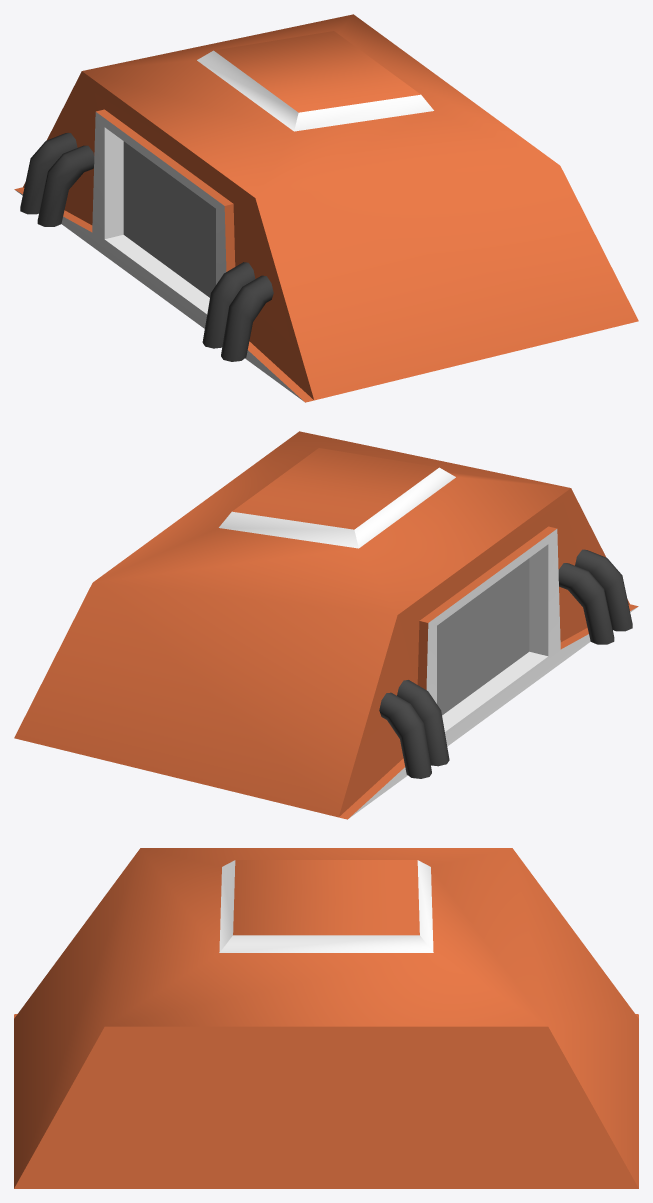
File: Machine_6.fbx
3 renders of one model, top to bottom at view 1: azimuth 30°, elevation 25°; view 2: azimuth 150°, elevation 25°; view 3: azimuth 270°, elevation 25°, orthographic. The views are drawn at different scales.
Parts seen in each view (by area): view 1: Machine_6; view 2: Machine_6; view 3: Machine_6.
Part boxes in pixels (left/top/right/bottom): Machine_6: left=14, top=14, right=638, bottom=402; Machine_6: left=14, top=431, right=638, bottom=819; Machine_6: left=14, top=848, right=638, bottom=1188.
Bounding box in the file's own units: 781 × 383 × 1061.
